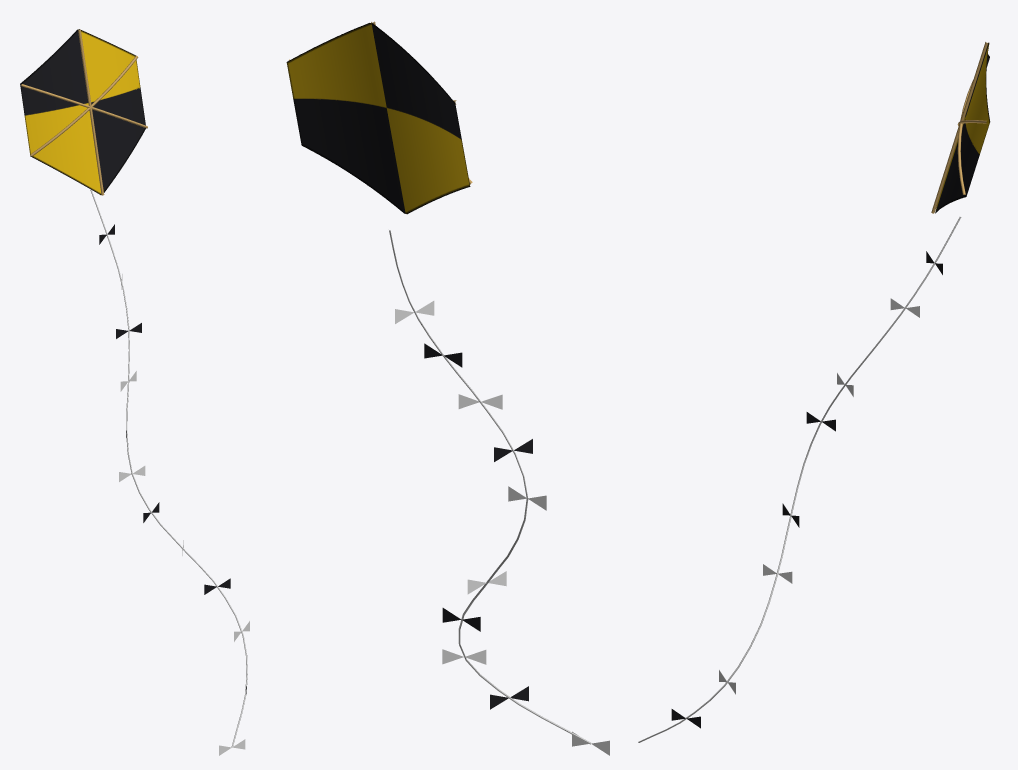
Rendered from raia-5.glb.
The picture shows the model from 3 angles, left to right: view 1: azimuth 30°, elevation 25°; view 2: azimuth 150°, elevation 25°; view 3: azimuth 270°, elevation 25°; orthographic projection. The views are drawn at different scales.
Visible parts, largest first — view 1: raia-5; view 2: raia-5; view 3: raia-5.
Part boxes in pixels (box(x1,y1,x2,y2)): raia-5: box(20, 29, 249, 755); raia-5: box(286, 21, 609, 755); raia-5: box(638, 42, 990, 742).
Size of the model in its own units: 1.19 by 5.81 by 2.73.
Materials: 5 (1 with a texture image).
